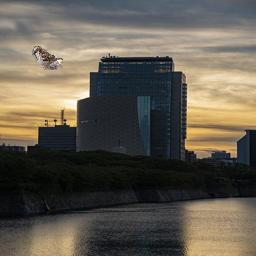Sparrow: (32, 46, 63, 70)
